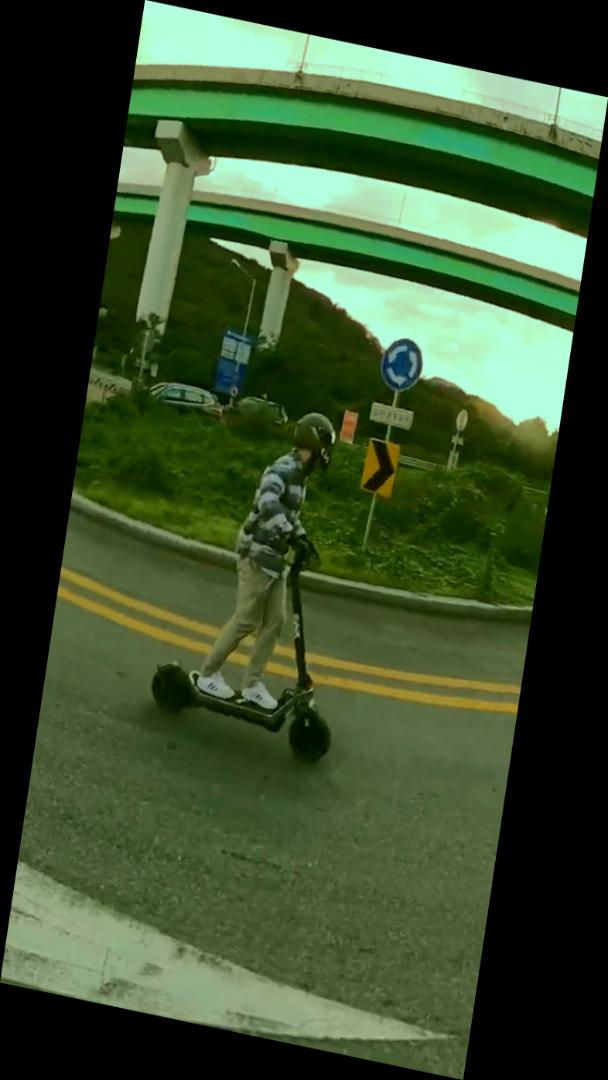helmet: (142, 384, 382, 772)
